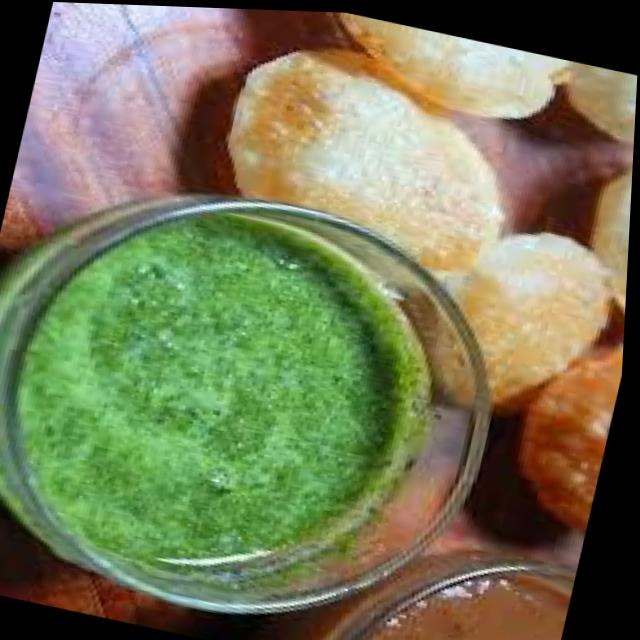GREEN CHUTNEY: (17, 215, 424, 572)
